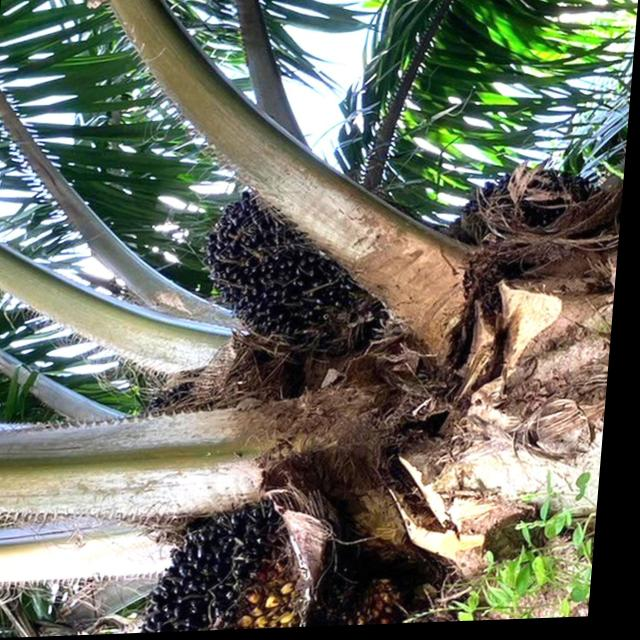unripe: (210, 191, 391, 344)
